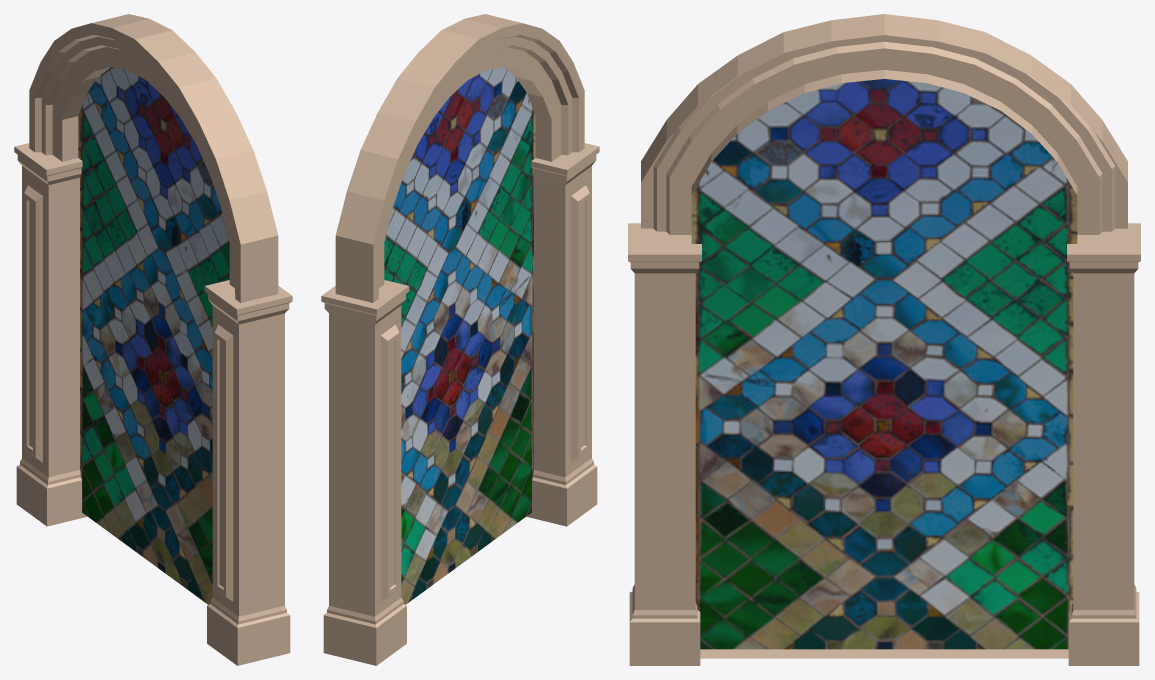
File: BC_IndiseArcWindow_B.fbx
3 views of the same model, side by side, from view 1: azimuth 30°, elevation 25°; view 2: azimuth 150°, elevation 25°; view 3: azimuth 270°, elevation 25° (orthographic). The views are drawn at different scales.
Parts seen in each view (by area): view 1: BC_IndiseArcWindow_B; view 2: BC_IndiseArcWindow_B; view 3: BC_IndiseArcWindow_B.
Part boxes in pixels (x1,y1,x2,y2): BC_IndiseArcWindow_B: (14, 14, 292, 665); BC_IndiseArcWindow_B: (321, 14, 599, 665); BC_IndiseArcWindow_B: (628, 14, 1140, 665).
Bounding box in the file's own units: 75.62 × 700 × 519.
Materials: 2 (1 with a texture image).
